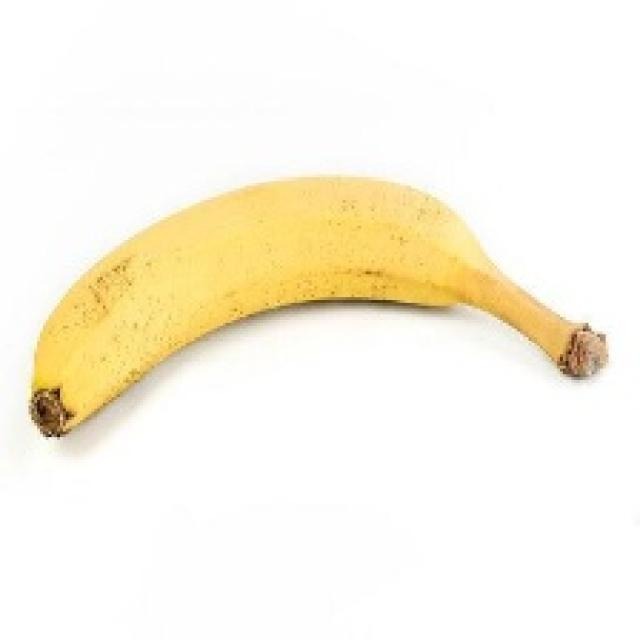Banana: (26, 172, 608, 437)
